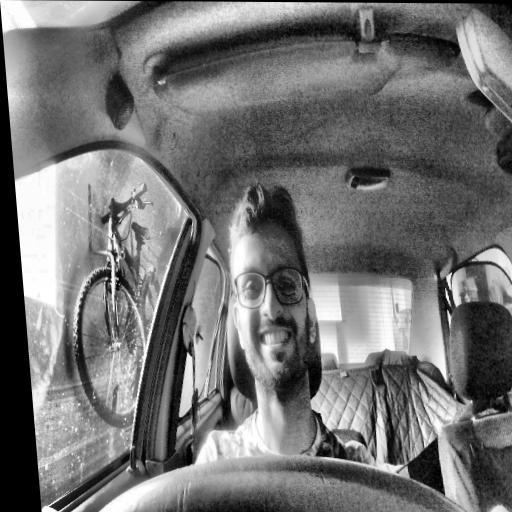awake: (219, 178, 326, 394)
